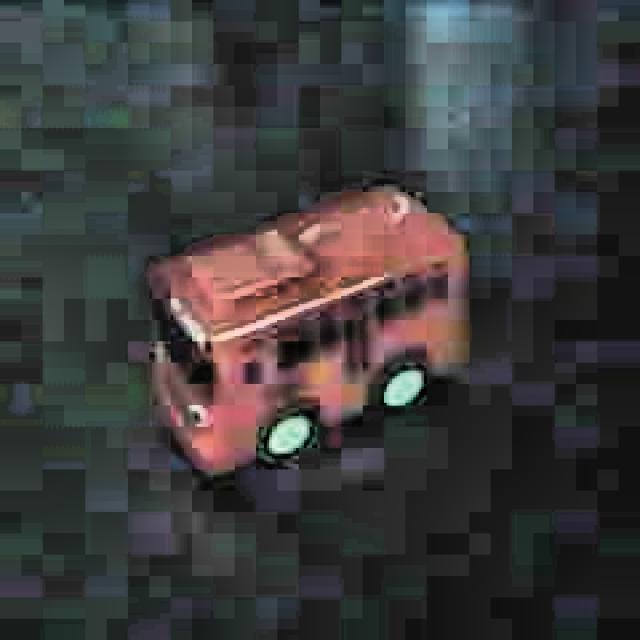bus: (140, 178, 473, 484)
